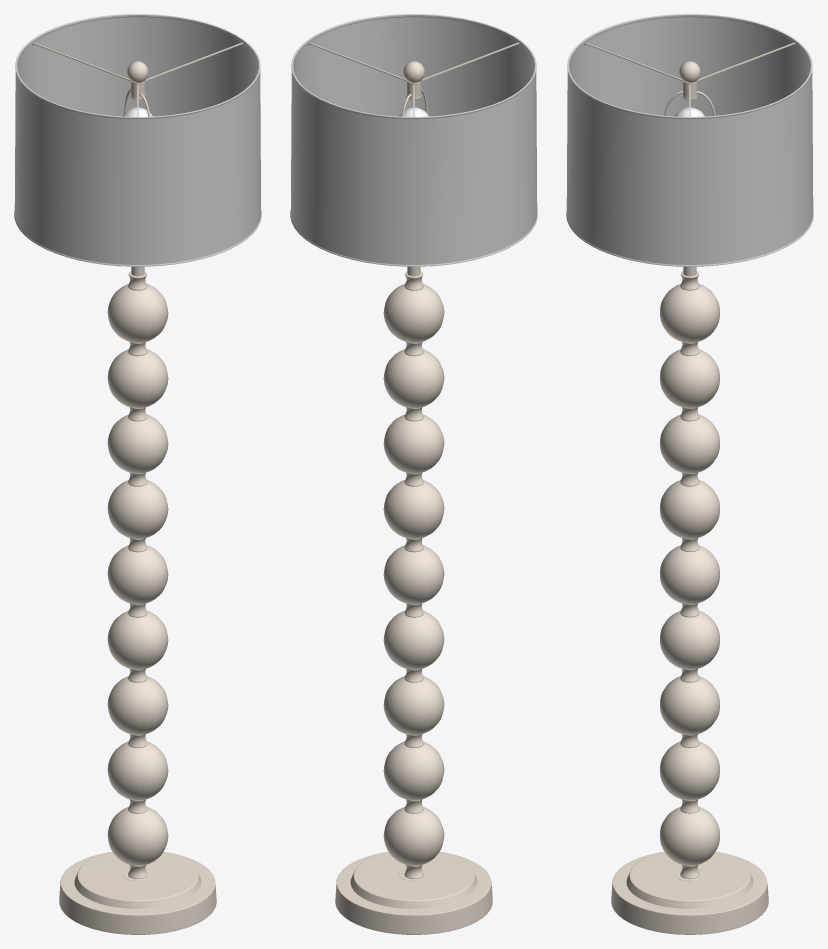
The model's file is abo-B07DBJJ5Q9.glb.
3 renders of one model, left to right at view 1: azimuth 30°, elevation 25°; view 2: azimuth 150°, elevation 25°; view 3: azimuth 270°, elevation 25°, orthographic.
Bounding box in the file's own units: 0.394 × 1.47 × 0.394.
Materials: 1 (1 with a texture image).
